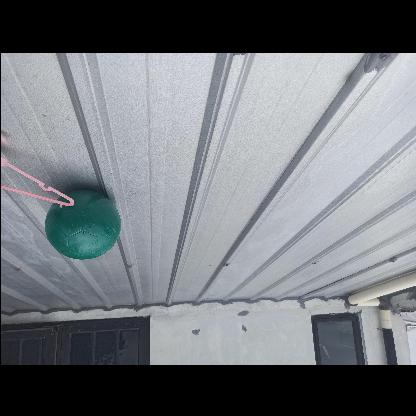green_ball: (46, 186, 118, 260)
